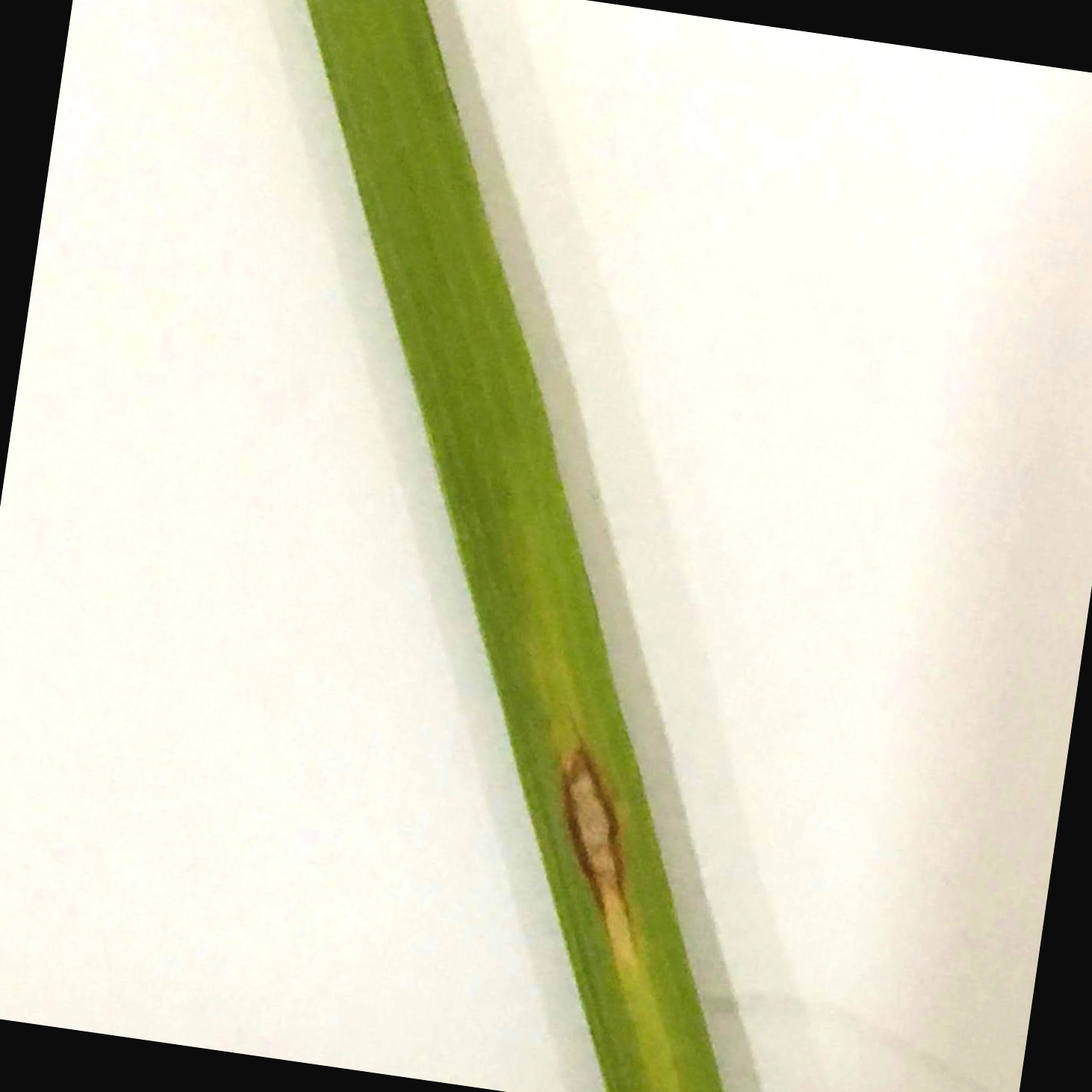Brown_Spot: (539, 734, 654, 920)
